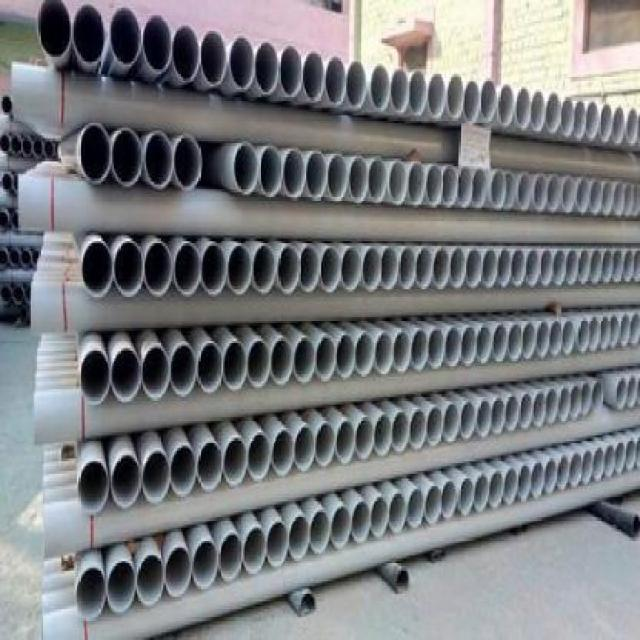pipe: (73, 4, 106, 66), (109, 8, 142, 68), (78, 123, 111, 183), (111, 127, 144, 187), (37, 0, 71, 58), (81, 241, 114, 298), (114, 240, 145, 299), (78, 350, 111, 405), (143, 14, 172, 76), (75, 566, 108, 620), (111, 347, 142, 402), (111, 454, 142, 508), (145, 131, 174, 188), (172, 23, 200, 82), (78, 460, 109, 513), (145, 240, 173, 297), (200, 31, 228, 88), (169, 342, 197, 398), (174, 134, 202, 190), (107, 560, 136, 614), (137, 554, 166, 607), (142, 346, 170, 399), (142, 450, 170, 503), (230, 35, 256, 91), (175, 241, 201, 296), (170, 445, 198, 496), (165, 546, 193, 597), (196, 341, 222, 395), (255, 40, 280, 96), (202, 244, 228, 297), (233, 141, 259, 194), (192, 540, 220, 589), (223, 339, 248, 392), (279, 45, 304, 98), (196, 442, 222, 491), (227, 245, 252, 294), (223, 437, 248, 486), (219, 533, 244, 582), (303, 50, 326, 103), (242, 526, 267, 574), (253, 243, 276, 294), (260, 146, 283, 197), (277, 244, 300, 293), (247, 340, 270, 389), (248, 433, 271, 482), (283, 149, 306, 198), (293, 336, 316, 384), (270, 337, 293, 385), (271, 429, 294, 477), (266, 520, 289, 568), (345, 60, 367, 109), (369, 63, 391, 112), (326, 55, 346, 108), (298, 245, 320, 293), (320, 246, 342, 294), (289, 513, 311, 561), (305, 152, 327, 200), (328, 154, 350, 202), (309, 510, 331, 555), (341, 245, 361, 293), (362, 245, 382, 293), (390, 67, 410, 115), (316, 335, 336, 381), (336, 419, 356, 465), (294, 425, 314, 471), (389, 159, 409, 205), (315, 422, 335, 467), (331, 504, 351, 549), (368, 157, 387, 203), (428, 72, 446, 120), (350, 156, 368, 204), (351, 500, 371, 543), (410, 70, 428, 116), (447, 72, 464, 120), (380, 246, 398, 291), (357, 332, 375, 377), (337, 335, 355, 380), (356, 416, 374, 461), (388, 492, 407, 534), (415, 246, 433, 289), (375, 332, 393, 375), (392, 411, 410, 454), (408, 163, 426, 206), (463, 79, 480, 124), (498, 84, 515, 129), (426, 163, 443, 208), (394, 332, 412, 374), (407, 487, 425, 529), (370, 495, 388, 537), (481, 79, 497, 125), (515, 85, 531, 131), (466, 246, 483, 289), (449, 246, 466, 289), (399, 246, 416, 289), (412, 329, 429, 372), (409, 409, 426, 452), (442, 163, 458, 208), (433, 247, 450, 289), (429, 328, 446, 370), (426, 405, 443, 447), (375, 413, 392, 455), (490, 168, 507, 209), (530, 90, 546, 133), (545, 92, 561, 135), (425, 484, 442, 524), (511, 246, 527, 288), (441, 479, 457, 521), (492, 324, 509, 362), (461, 327, 478, 365), (459, 402, 476, 440), (458, 477, 475, 515), (476, 399, 492, 439), (443, 403, 459, 443), (472, 168, 488, 208), (446, 326, 461, 368), (458, 166, 473, 208), (474, 473, 490, 512), (517, 172, 533, 211), (497, 248, 512, 289), (476, 326, 492, 364), (488, 470, 504, 508), (483, 246, 497, 289), (599, 102, 613, 144), (552, 247, 566, 287), (539, 249, 553, 289), (560, 98, 574, 138), (586, 101, 600, 141), (612, 106, 626, 146), (578, 248, 592, 287), (565, 248, 579, 287), (526, 248, 540, 287), (508, 323, 522, 362), (562, 175, 576, 214), (522, 322, 536, 360), (504, 467, 518, 505), (574, 99, 587, 139), (536, 321, 550, 358), (519, 393, 533, 430), (506, 395, 520, 432), (492, 397, 506, 434), (531, 462, 545, 499), (518, 465, 532, 502), (533, 175, 547, 212), (547, 176, 561, 213), (625, 107, 638, 146), (504, 170, 517, 209), (576, 316, 590, 352), (532, 391, 546, 427), (589, 180, 603, 216), (546, 387, 559, 425), (576, 179, 590, 214), (601, 248, 614, 285), (590, 248, 603, 285), (562, 319, 575, 356), (549, 319, 562, 356), (545, 458, 558, 495), (613, 180, 626, 217), (558, 386, 571, 422), (569, 451, 582, 487), (557, 455, 570, 491), (601, 180, 614, 216), (615, 376, 628, 410), (609, 312, 620, 351), (591, 380, 604, 413), (599, 313, 610, 351), (589, 315, 600, 351), (571, 384, 582, 420), (605, 443, 616, 479), (582, 448, 593, 484), (622, 248, 633, 283), (612, 249, 623, 284), (619, 313, 630, 347), (581, 382, 592, 416), (626, 437, 637, 471), (615, 441, 626, 475), (593, 447, 604, 481), (630, 310, 639, 348), (625, 182, 634, 217)
